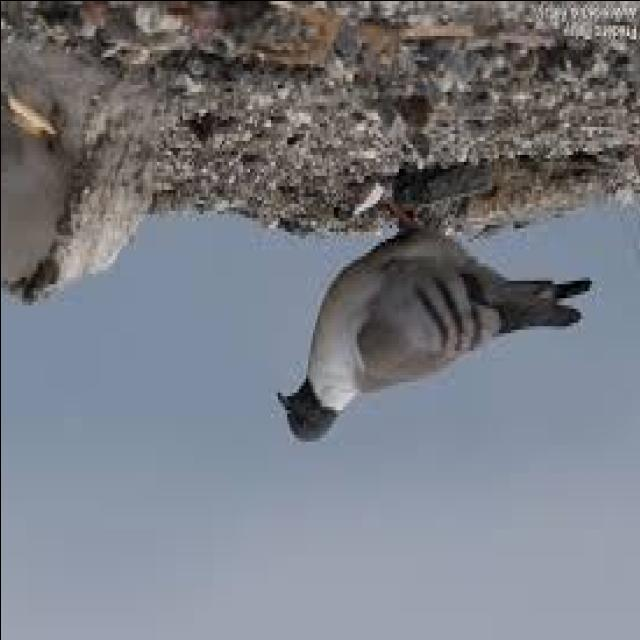pigeon: (272, 163, 600, 476)
